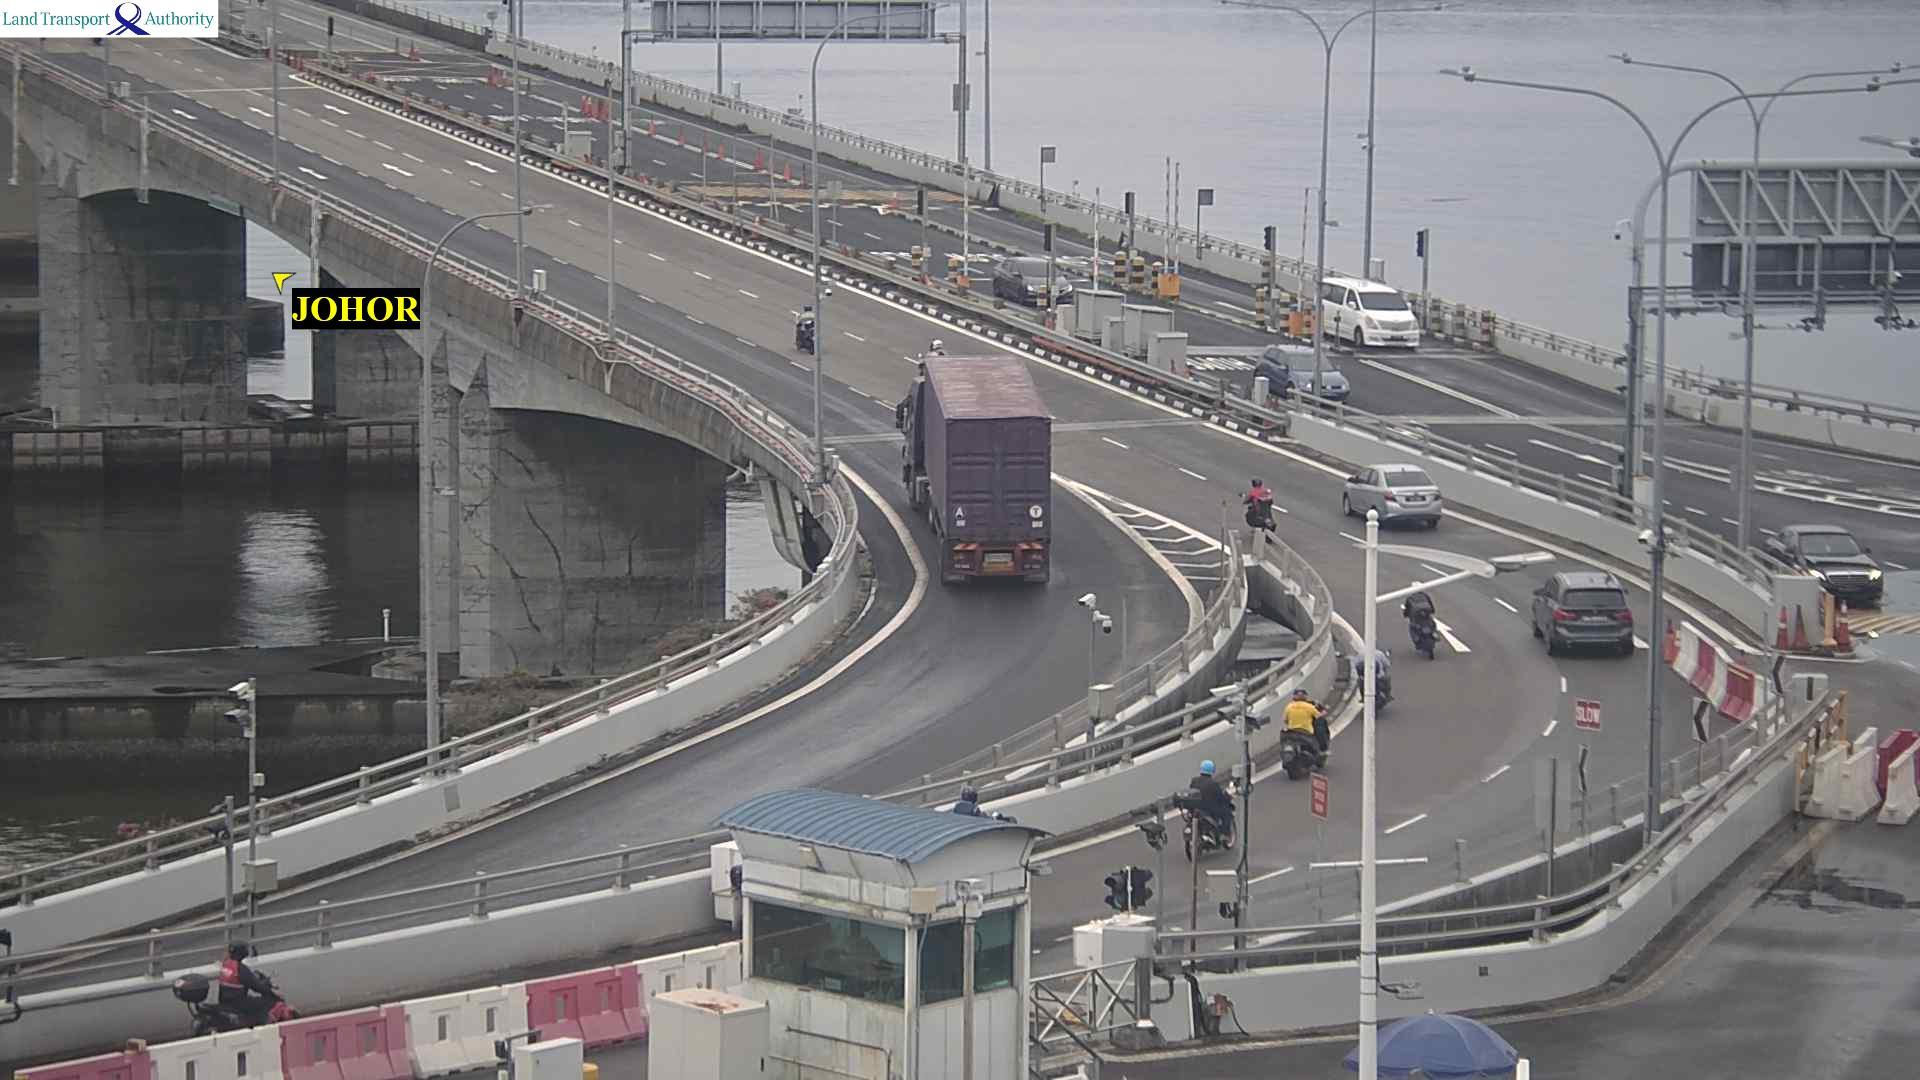vehicle-causeway-singapore: (0, 227, 37, 280)
vehicle-secondlink-johor: (914, 353, 1055, 583), (167, 949, 299, 1035), (1553, 570, 1647, 658), (1345, 462, 1439, 529), (1185, 762, 1232, 851), (1288, 687, 1320, 769), (1403, 583, 1435, 658), (1245, 477, 1279, 524), (794, 303, 819, 343)
vehicle-secondlink-singapore: (1764, 526, 1882, 599), (1317, 277, 1427, 349), (1211, 347, 1352, 402), (1000, 253, 1071, 301)
